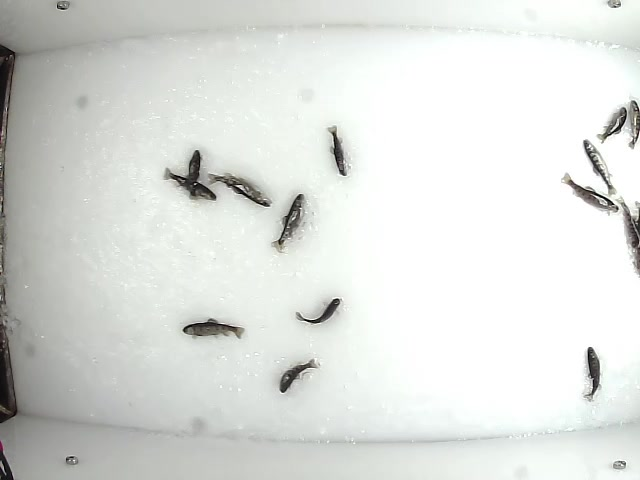fish: (560, 169, 620, 214), (207, 170, 274, 206), (161, 165, 220, 204), (270, 192, 307, 254), (582, 136, 618, 195), (181, 315, 248, 341), (278, 355, 321, 394), (293, 295, 343, 324), (578, 346, 602, 404), (326, 122, 350, 179), (594, 104, 627, 144), (181, 145, 203, 200), (623, 98, 640, 149)
